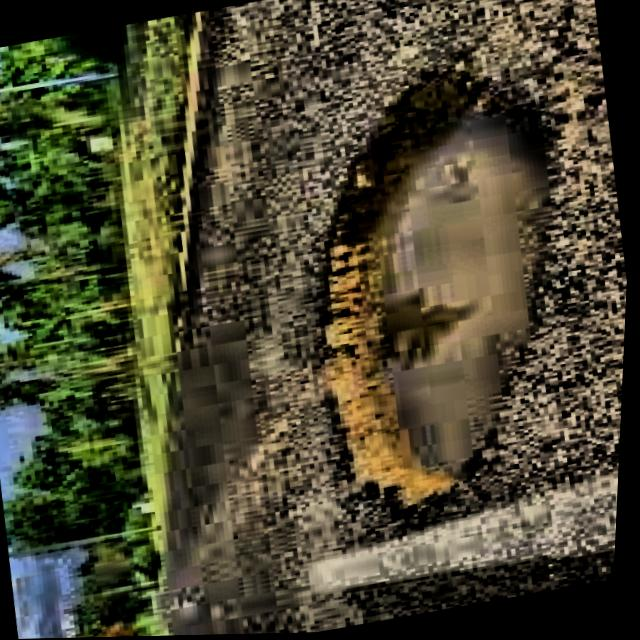Cracks: (327, 75, 545, 507)
